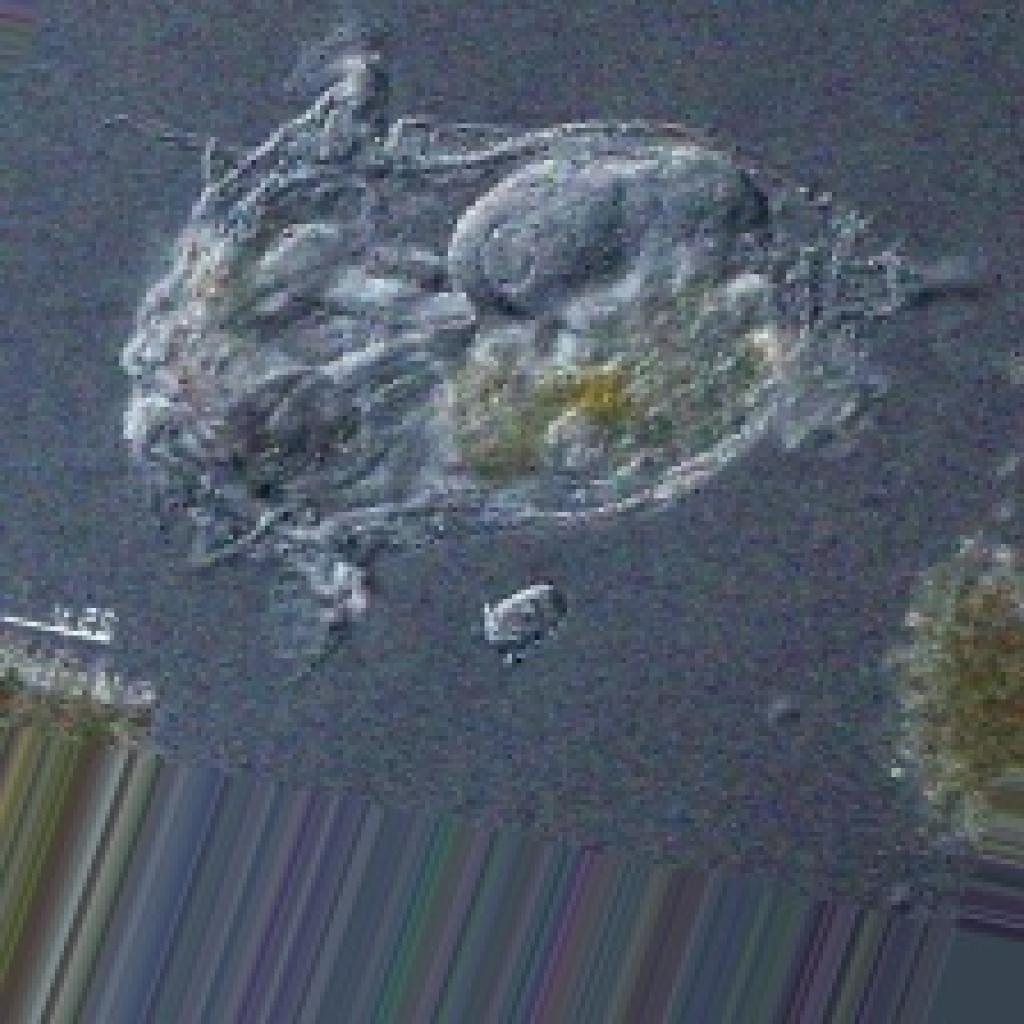Rotifer: (42, 0, 887, 740)
